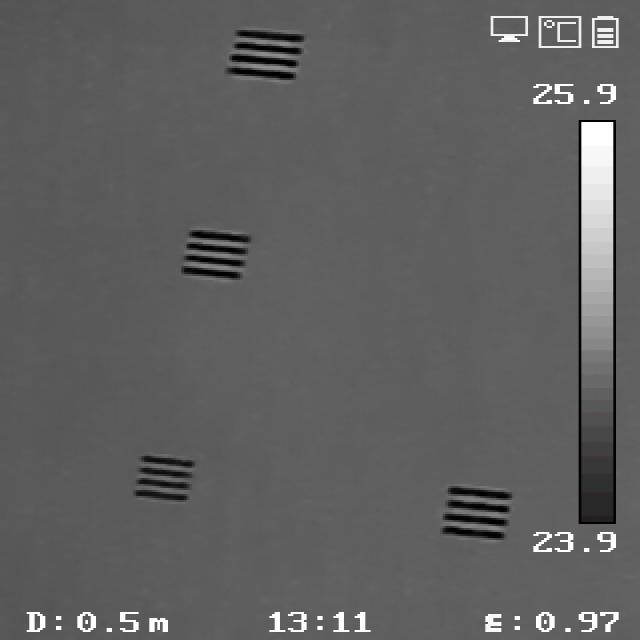Distinguishable 4-bar target: (168, 226, 260, 283), (432, 482, 520, 541), (124, 444, 200, 507), (228, 24, 309, 82)
